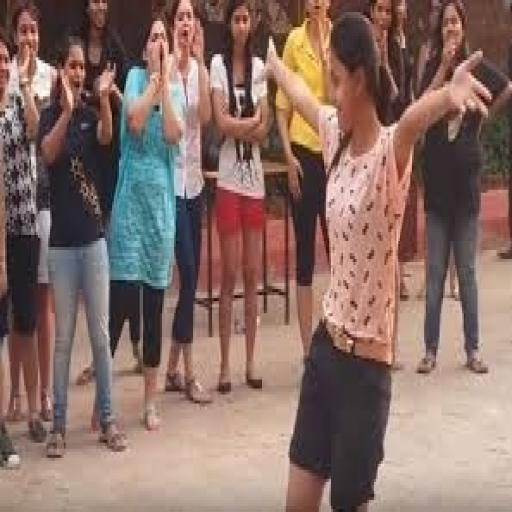dancing: (262, 9, 495, 509)
